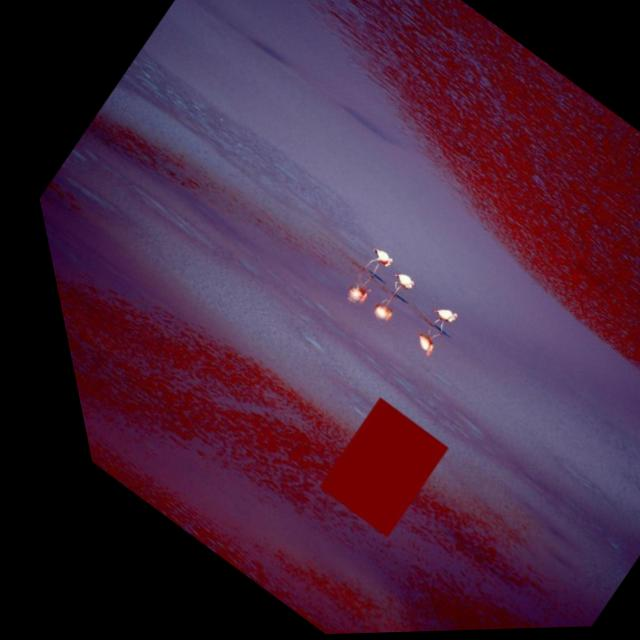RedSquare: (271, 383, 456, 549)
